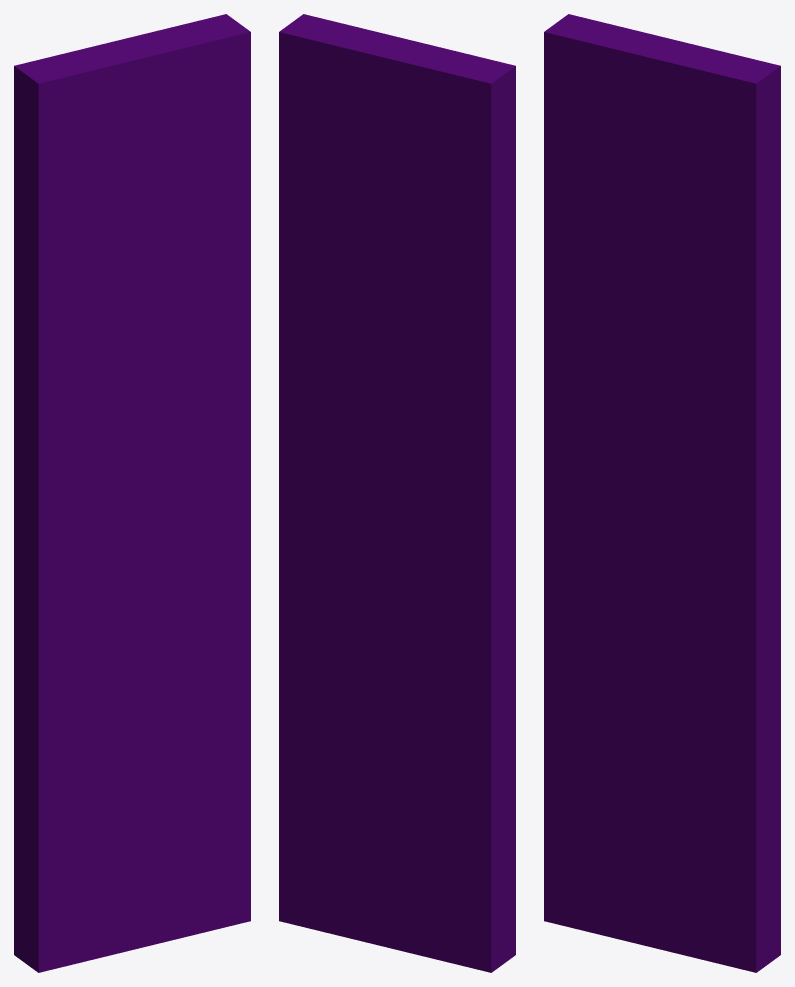
File: SM_RockWallCube02.fbx
3 views of the same model, side by side, from view 1: azimuth 30°, elevation 25°; view 2: azimuth 150°, elevation 25°; view 3: azimuth 330°, elevation 25° (orthographic).
Parts seen in each view (by area): view 1: pCube2; view 2: pCube2; view 3: pCube2.
Part boxes in pixels (x1,y1,x2,y2): pCube2: (14, 14, 250, 972); pCube2: (279, 14, 515, 972); pCube2: (544, 14, 780, 972).
Size of the model in its own units: 5 by 20 by 1.
